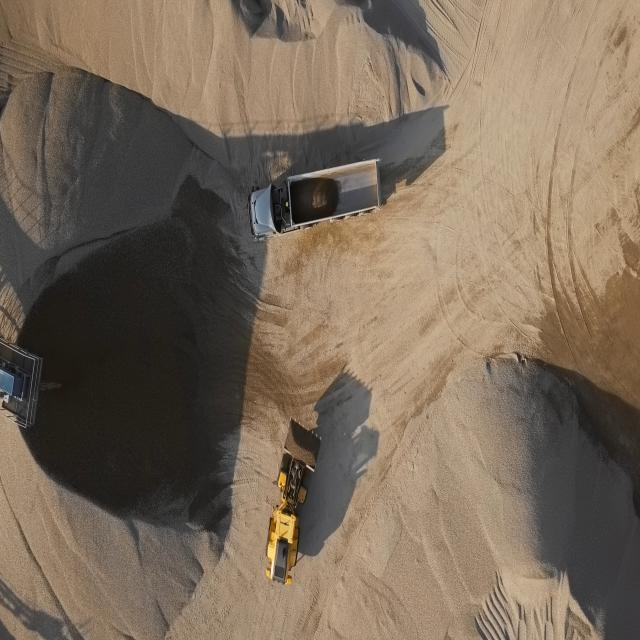vehicle: (248, 159, 382, 239), (266, 416, 320, 588)
